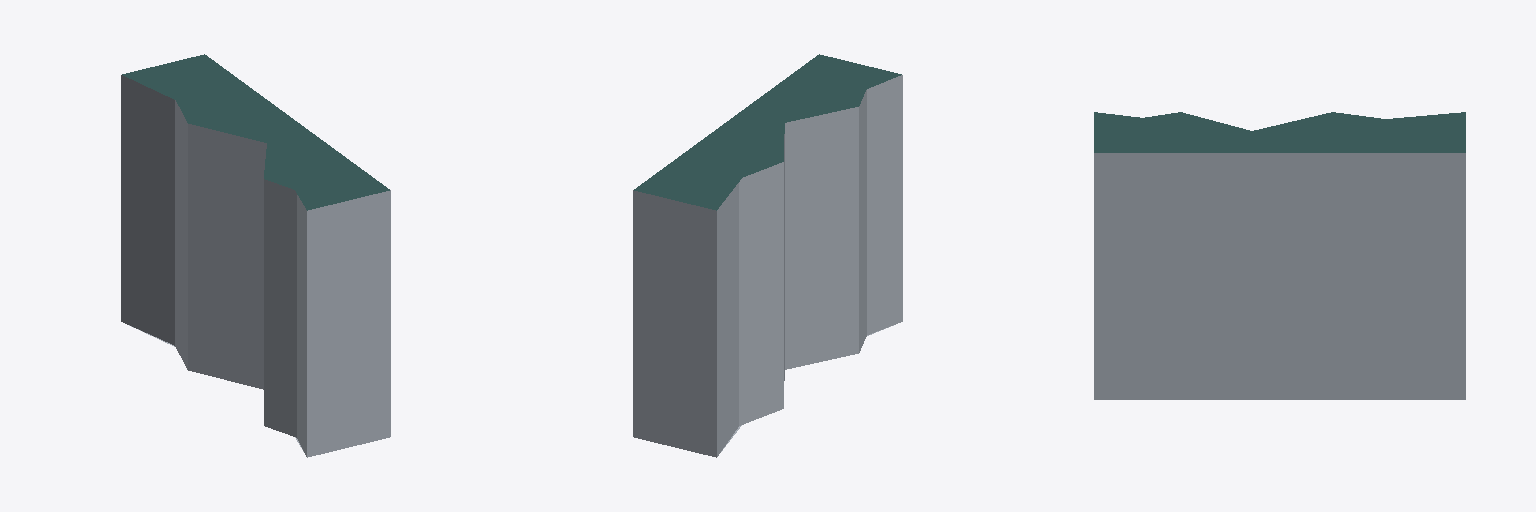
3 renders of one model, left to right at view 1: azimuth 30°, elevation 25°; view 2: azimuth 150°, elevation 25°; view 3: azimuth 270°, elevation 25°, orthographic.
Visible parts, largest first — view 1: Mesh1 Grey_Cliff_Green_Top Model; view 2: Mesh1 Grey_Cliff_Green_Top Model; view 3: Mesh1 Grey_Cliff_Green_Top Model.
Part boxes in pixels (bbox=[...]): Mesh1 Grey_Cliff_Green_Top Model: bbox=[121, 54, 390, 457]; Mesh1 Grey_Cliff_Green_Top Model: bbox=[633, 54, 902, 457]; Mesh1 Grey_Cliff_Green_Top Model: bbox=[1094, 112, 1465, 399].
Size of the model in its own units: 0.78 by 2.2 by 3.
1 materials, 1 textured.